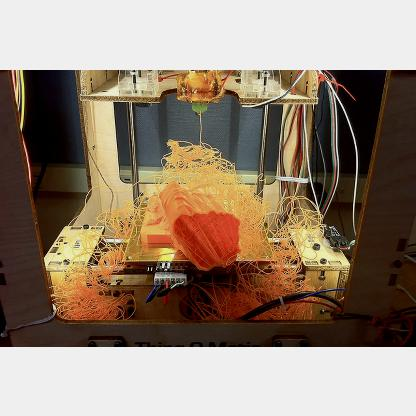fail: (160, 140, 242, 190), (65, 263, 119, 320), (268, 199, 326, 251), (86, 199, 146, 247), (225, 258, 305, 294)
